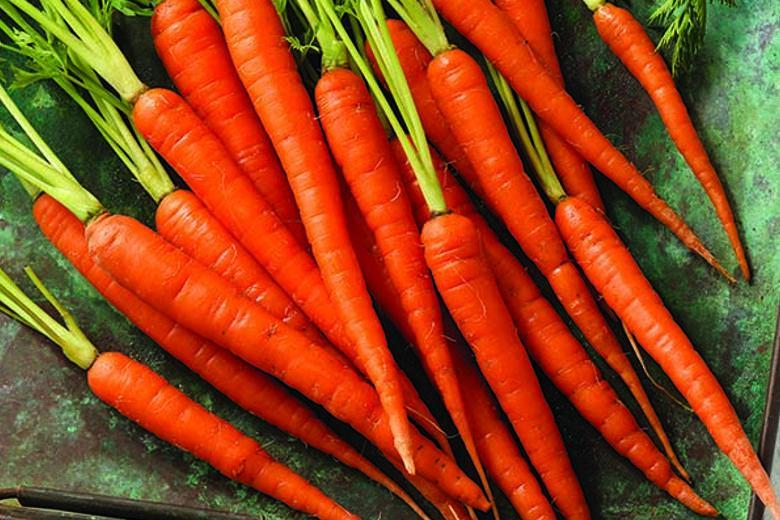carrot: (76, 12, 752, 515), (32, 330, 406, 520)
